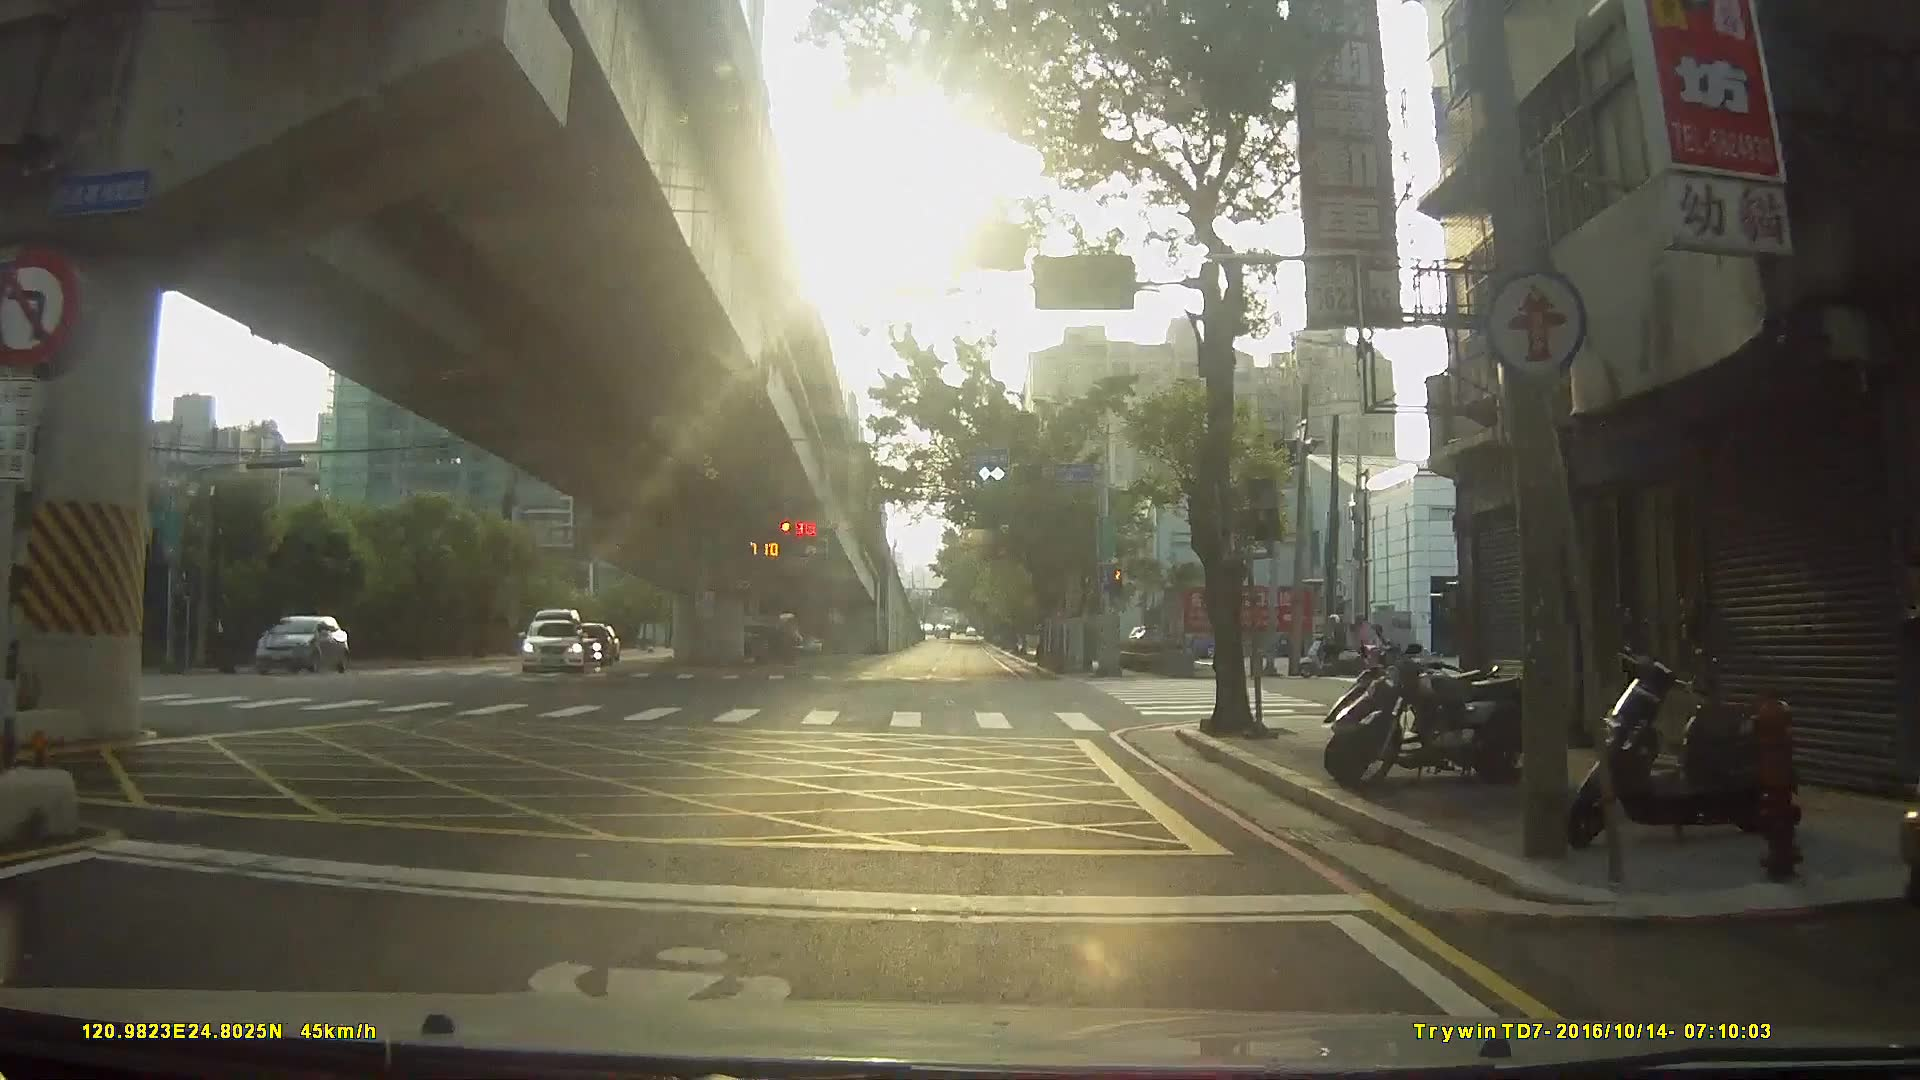rider: (1297, 613, 1364, 681)
vehicle: (241, 612, 357, 676), (513, 617, 583, 674), (717, 620, 798, 665), (559, 622, 610, 668)
